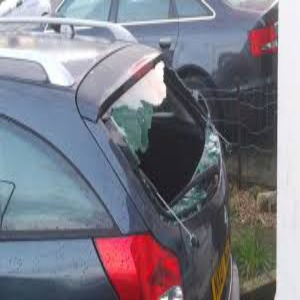bumper: (57, 161, 165, 284)
